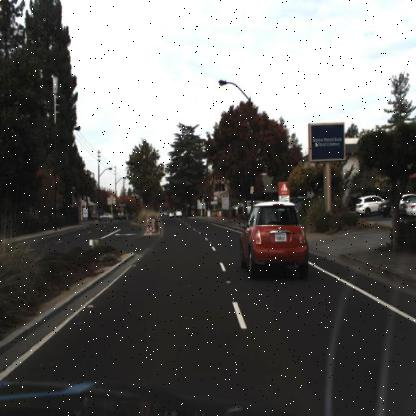car: (239, 201, 310, 279), (354, 193, 386, 217), (377, 196, 395, 214), (97, 212, 114, 223), (175, 206, 183, 218)
